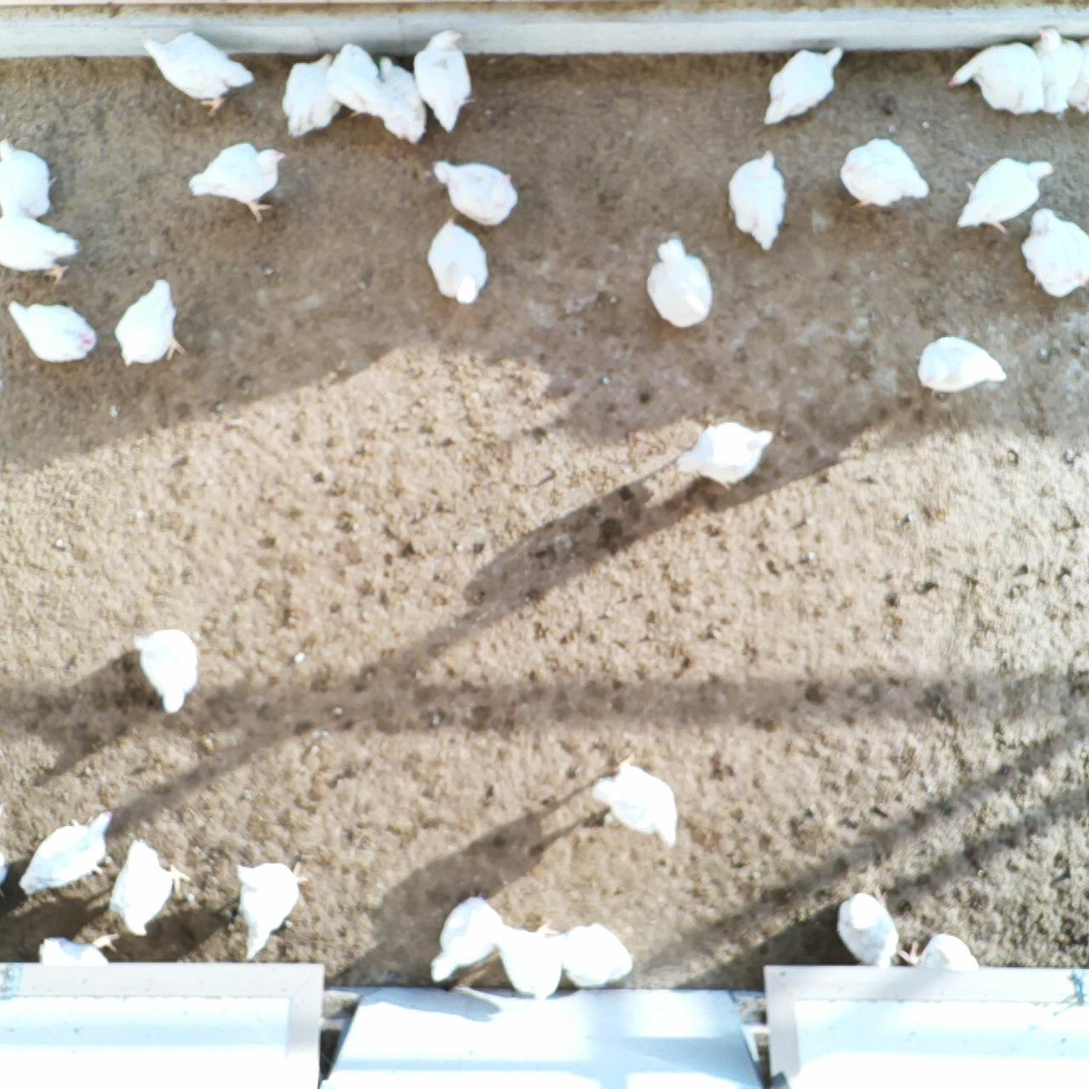chicken: (141, 26, 254, 117), (17, 807, 118, 898), (591, 751, 681, 851), (105, 837, 193, 939), (187, 135, 287, 222), (231, 857, 311, 961), (955, 153, 1057, 234), (946, 39, 1047, 119), (423, 893, 509, 984), (838, 133, 934, 212), (411, 29, 482, 134), (895, 930, 985, 1012), (675, 419, 773, 493), (762, 43, 846, 127), (114, 275, 189, 369), (546, 917, 635, 996), (727, 147, 791, 253), (279, 49, 353, 140), (4, 294, 97, 366), (645, 232, 714, 328), (427, 212, 496, 307), (1022, 203, 1089, 300), (430, 156, 519, 229), (1020, 22, 1087, 117), (131, 625, 200, 716), (833, 883, 900, 971), (0, 211, 77, 287), (492, 921, 568, 998), (33, 928, 123, 993), (916, 335, 1007, 399), (0, 132, 59, 226), (372, 51, 429, 144), (330, 40, 391, 122), (1060, 32, 1089, 120)
